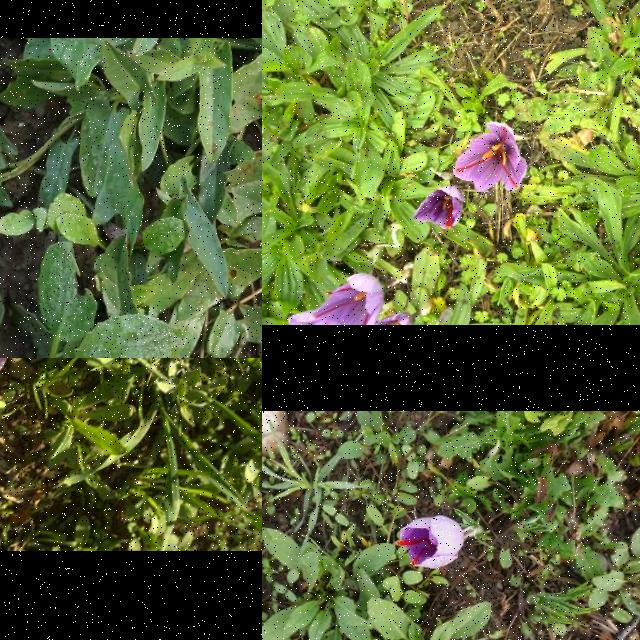flower: (452, 121, 528, 190), (394, 514, 464, 570), (414, 187, 464, 230)
overlap: (289, 275, 417, 325)
